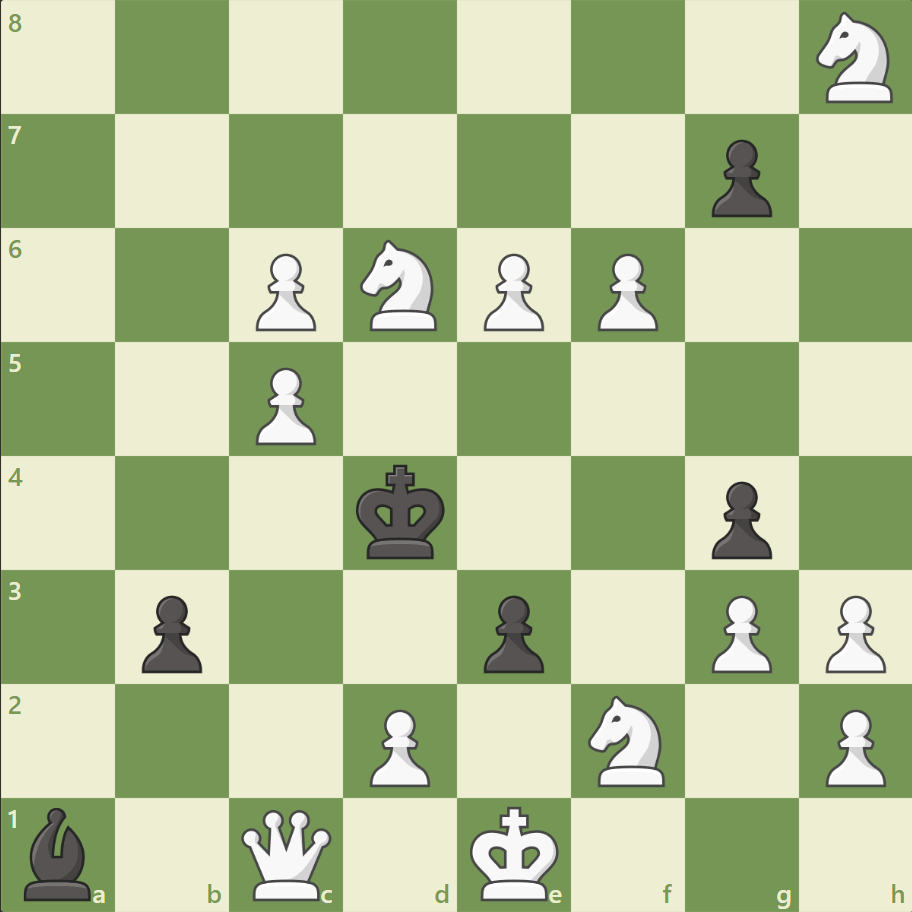K: (465, 798, 565, 906)
N: (351, 234, 449, 337), (806, 7, 903, 110), (579, 688, 676, 791)
P: (247, 246, 322, 337), (474, 246, 549, 337), (247, 359, 322, 450), (701, 586, 776, 677), (588, 246, 662, 337), (815, 586, 889, 677), (361, 700, 435, 791), (815, 700, 889, 791)
Q: (237, 804, 336, 903)
b: (17, 801, 101, 904)
k: (351, 458, 451, 566)
p: (701, 132, 776, 223), (701, 473, 776, 564), (133, 586, 208, 677), (474, 586, 549, 677)
